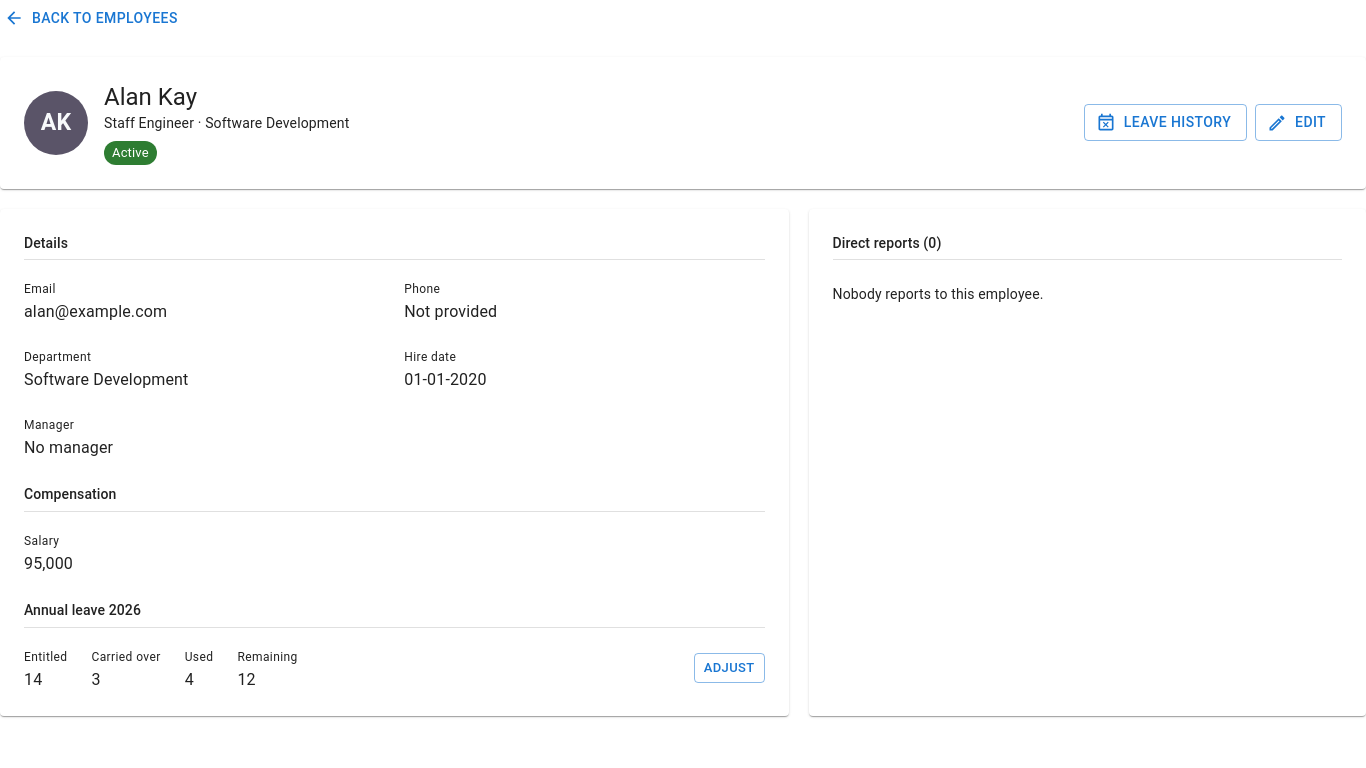
Test case: EmployeeDetailPage › saves a new entitlement and shows the recomputed remaining days
Click the button "Adjust".
click(729, 668)  # box [694, 653, 764, 684]
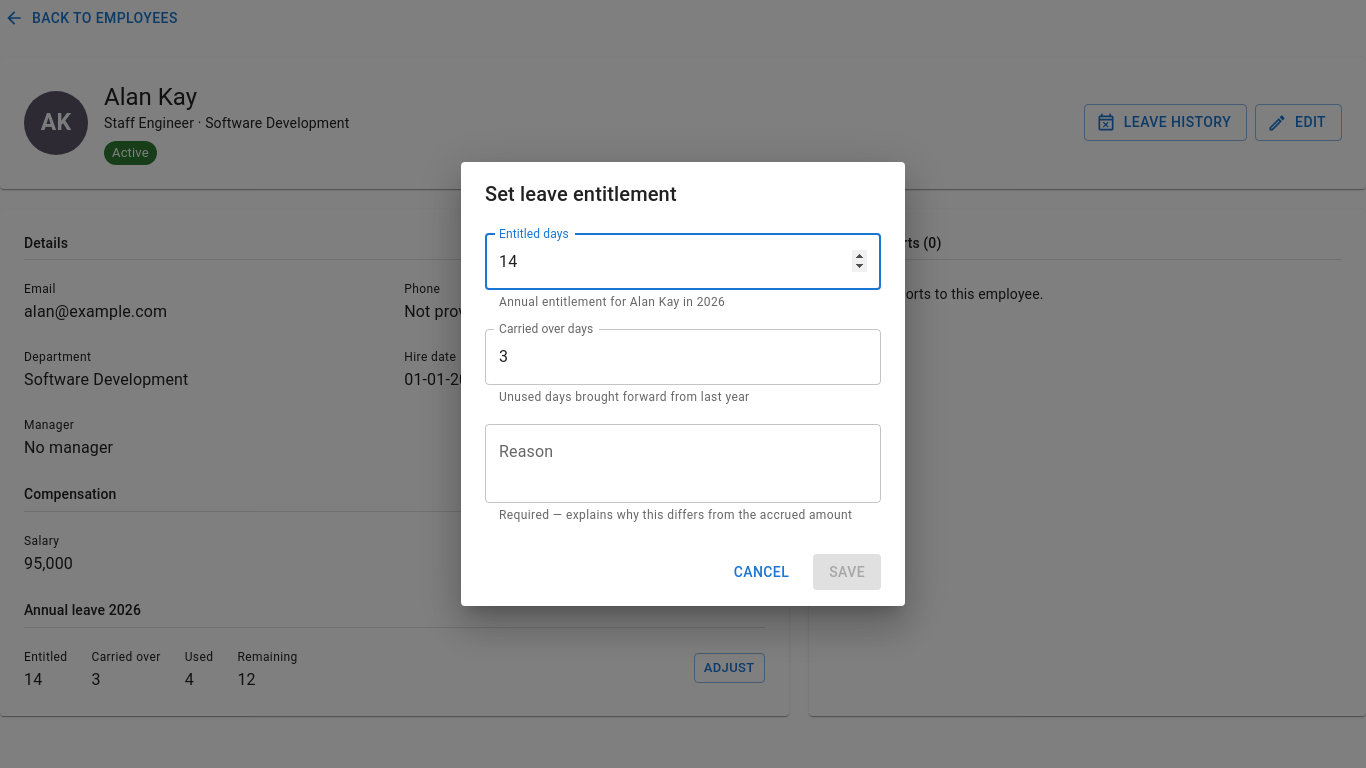
Type "Long service award" into the text box labelled "Reason".
click(683, 463); type("Long service award")  # box [499, 440, 867, 486]
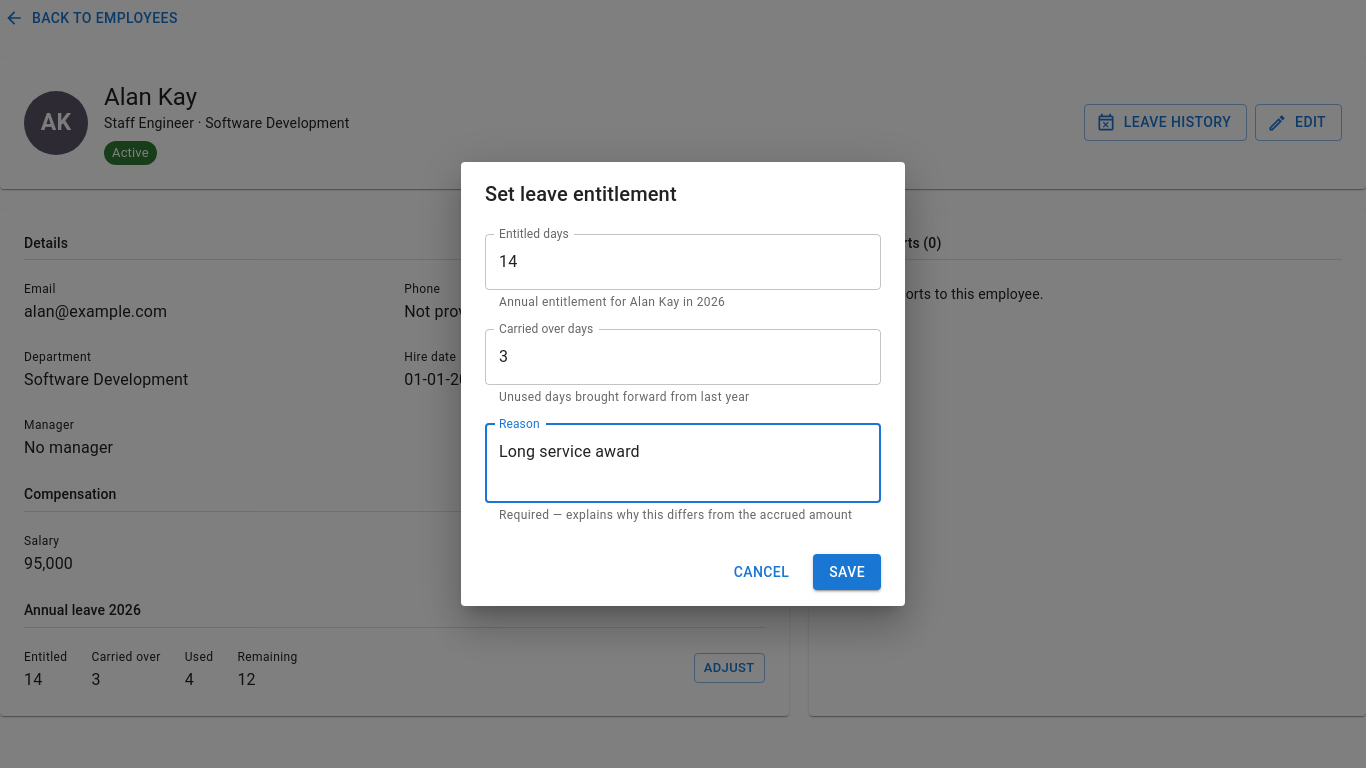
Click the button "Save".
click(847, 572)  # box [813, 554, 881, 590]
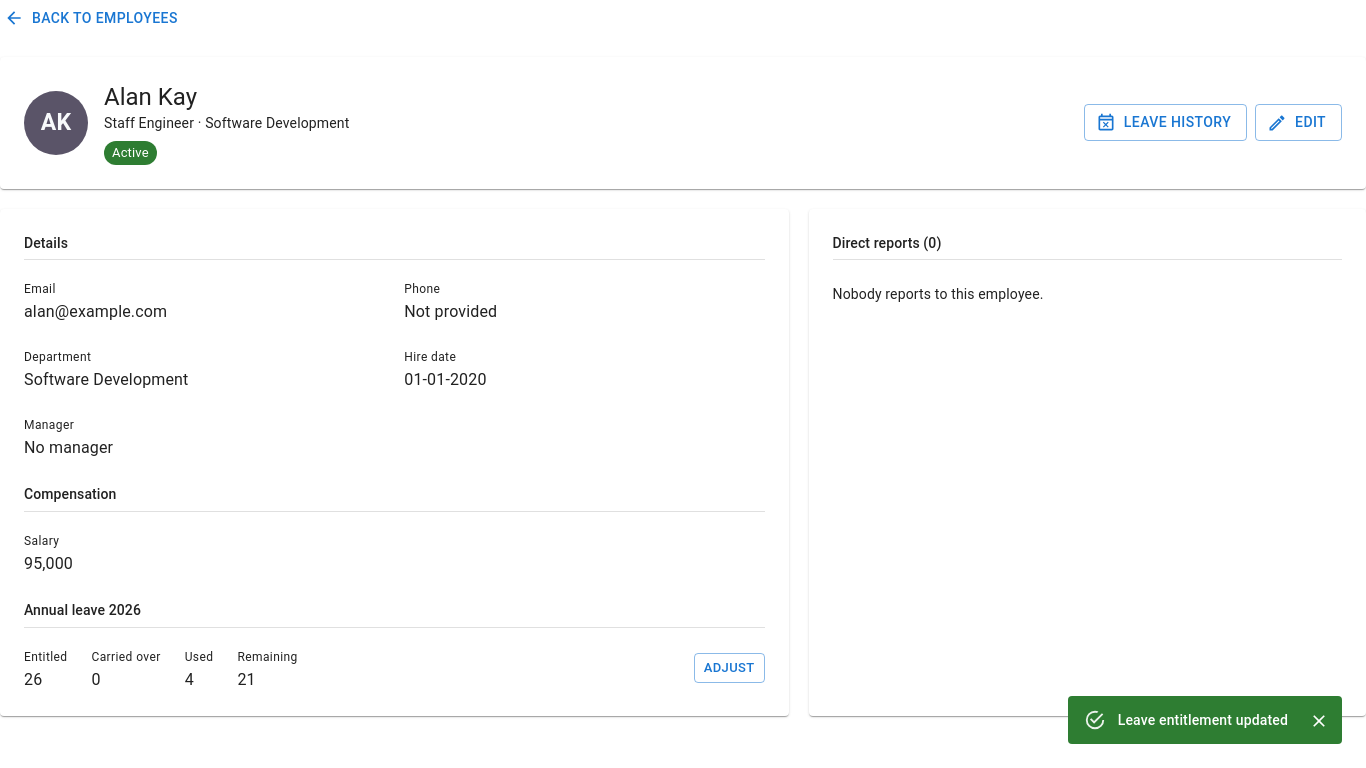
Expected: the text "21" is shown, [237, 670, 256, 689]
